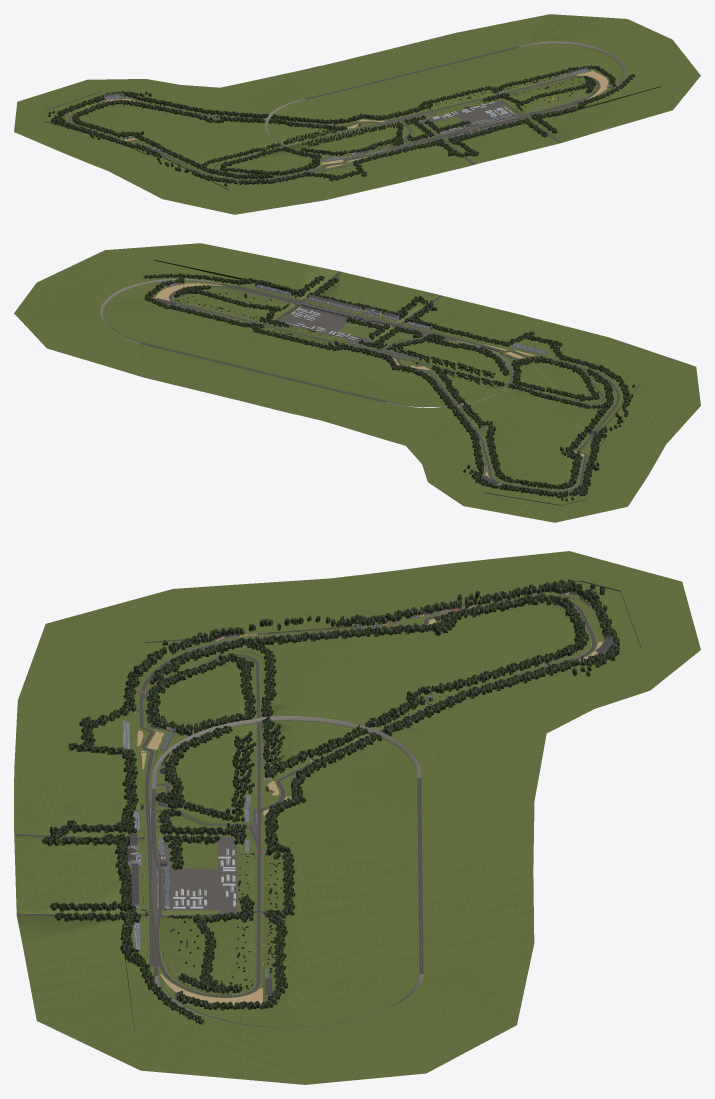
File: monza.glb
3 renders of one model, top to bottom at view 1: azimuth 30°, elevation 25°; view 2: azimuth 150°, elevation 25°; view 3: azimuth 270°, elevation 25°, orthographic. The views are drawn at different scales.
Visible parts, largest first — view 1: monza; view 2: monza; view 3: monza.
Part boxes in pixels (left/top/right/bottom): monza: left=14, top=14, right=700, bottom=214; monza: left=14, top=243, right=700, bottom=522; monza: left=14, top=551, right=700, bottom=1084.
Size of the model in its own units: 3070 by 32.47 by 1665.
Materials: 98 (98 with a texture image).
